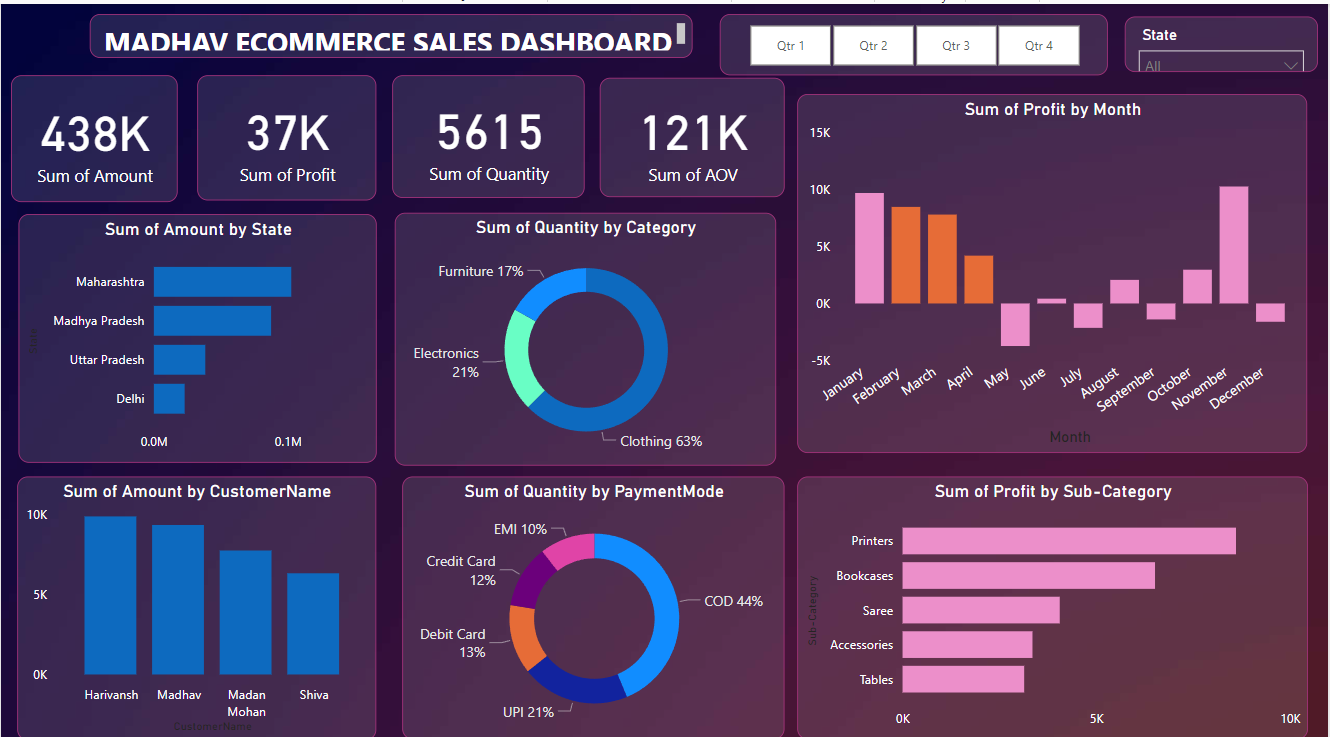

The page's visual inventory and layout, read from the dashboard file:
{"tool":"powerbi","page":{"name":"Page 1","canvas":[1280,720],"ordinal":0},"visuals":[{"type":"textbox","box":[85.1,9.6,581.8,42.5],"z":0},{"type":"barChart","fields":{"Category":["Details.Sub-Category"],"Y":["Sum(Details.Profit)"]},"box":[768.4,455.6,492.6,253.9],"z":1000},{"type":"donutChart","fields":{"Category":["Details.Category"],"Y":["Sum(Details.Quantity)"]},"box":[379.9,201.4,367.8,243.6],"z":2000},{"type":"donutChart","fields":{"Y":["Sum(Details.Quantity)"],"Category":["Details.PaymentMode"]},"box":[387.1,455.9,369,253.3],"z":3000},{"type":"card","fields":{"Values":["Sum(Details.Profit)"]},"box":[189.4,68.6,172.9,120.8],"z":4000},{"type":"card","fields":{"Values":["Sum(Details.Quantity)"]},"box":[377.4,68.6,185.2,118],"z":5000},{"type":"card","fields":{"Values":["Sum(Details.AOV)"]},"box":[577.7,71.4,178.4,115.3],"z":6000},{"type":"card","fields":{"Values":["Sum(Details.Amount)"]},"box":[9.6,68.6,160.5,122.1],"z":7000},{"type":"barChart","fields":{"Category":["Orders.State"],"Y":["Sum(Details.Amount)"]},"box":[16.5,203.1,345.8,240.1],"z":8000},{"type":"columnChart","fields":{"Y":["Sum(Details.Amount)"],"Category":["Orders.CustomerName"]},"box":[16,456,346,254],"z":9000},{"type":"slicer","fields":{"Values":["Orders.Order Date.Variation.Date Hierarchy.Quarter"]},"box":[693,9.6,374.6,59],"z":10000},{"type":"slicer","fields":{"Values":["Orders.State"]},"box":[1084.1,12.3,186.6,53.5],"z":11000},{"type":"columnChart","fields":{"Y":["Sum(Details.Profit)"],"Category":["Orders.Order Date.Variation.Date Hierarchy.Month"]},"box":[768.2,86.8,492.1,346.1],"z":12000}]}

Visuals, with their boxes in screenshot pixels (x1, y1, x2, y2), scaled from the page's 1280x720 canvas onto the 1330x737 screenshot:
textbox: pyautogui.locateOnScreen(88, 10, 693, 53)
barChart - Details.Sub-Category x Sum(Details.Profit): pyautogui.locateOnScreen(798, 466, 1310, 726)
donutChart - Details.Category x Sum(Details.Quantity): pyautogui.locateOnScreen(395, 206, 777, 456)
donutChart - Sum(Details.Quantity) x Details.PaymentMode: pyautogui.locateOnScreen(402, 467, 786, 726)
card - Sum(Details.Profit): pyautogui.locateOnScreen(197, 70, 376, 194)
card - Sum(Details.Quantity): pyautogui.locateOnScreen(392, 70, 585, 191)
card - Sum(Details.AOV): pyautogui.locateOnScreen(600, 73, 786, 191)
card - Sum(Details.Amount): pyautogui.locateOnScreen(10, 70, 177, 195)
barChart - Orders.State x Sum(Details.Amount): pyautogui.locateOnScreen(17, 208, 376, 454)
columnChart - Sum(Details.Amount) x Orders.CustomerName: pyautogui.locateOnScreen(17, 467, 376, 727)
slicer - Orders.Order Date.Variation.Date Hierarchy.Quarter: pyautogui.locateOnScreen(720, 10, 1109, 70)
slicer - Orders.State: pyautogui.locateOnScreen(1126, 13, 1320, 67)
columnChart - Sum(Details.Profit) x Orders.Order Date.Variation.Date Hierarchy.Month: pyautogui.locateOnScreen(798, 89, 1310, 443)
